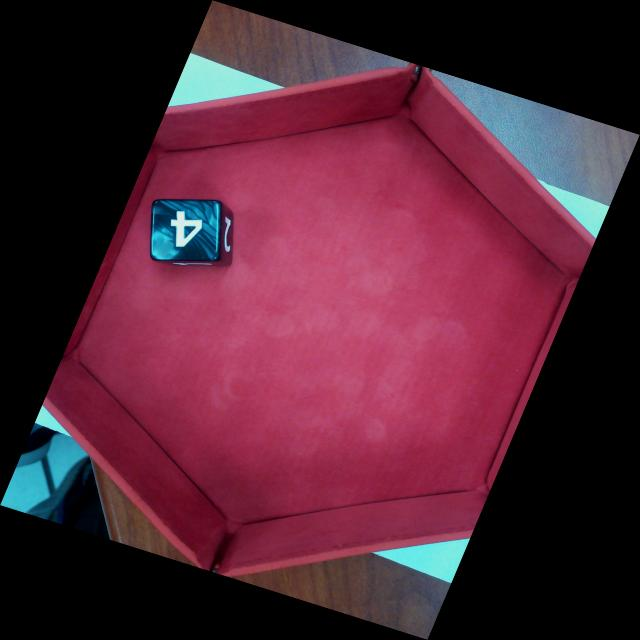dice: (150, 199, 220, 262)
